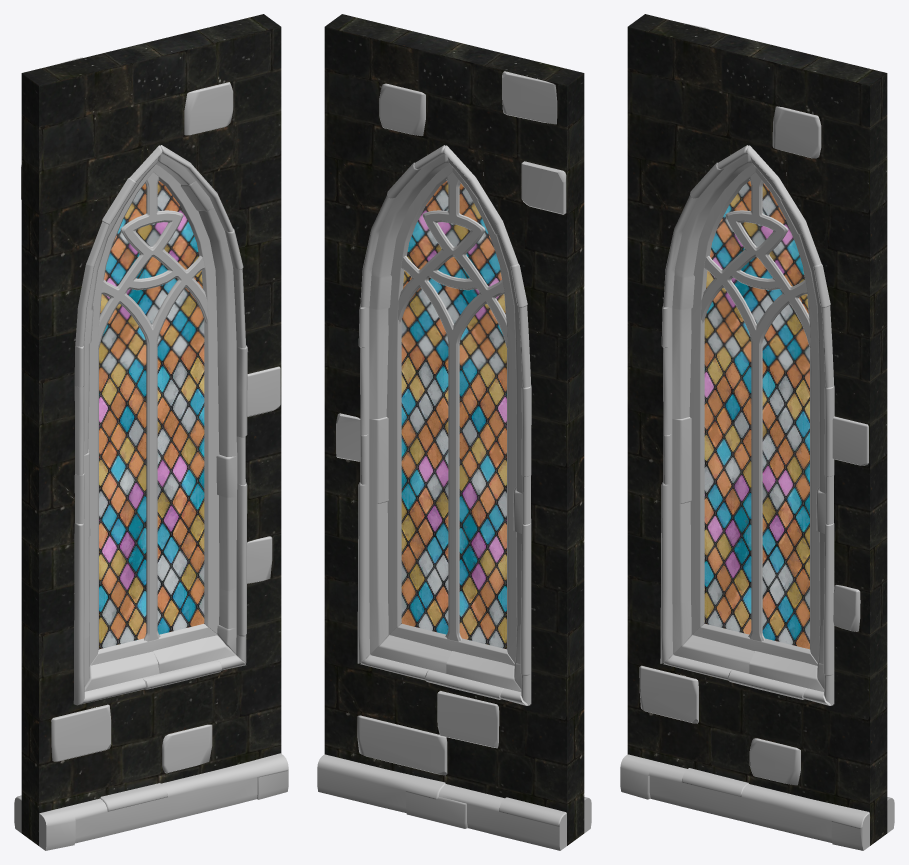
The picture shows the model from 3 angles, left to right: view 1: azimuth 30°, elevation 25°; view 2: azimuth 150°, elevation 25°; view 3: azimuth 330°, elevation 25°; orthographic projection.
Parts seen in each view (by area): view 1: SM_DeathTemple_Window_4x12_01_v1_LOD0; view 2: SM_DeathTemple_Window_4x12_01_v1_LOD0; view 3: SM_DeathTemple_Window_4x12_01_v1_LOD0.
Part boxes in pixels (x1,y1,x2,y2): SM_DeathTemple_Window_4x12_01_v1_LOD0: (14,14,288,850); SM_DeathTemple_Window_4x12_01_v1_LOD0: (317,14,591,850); SM_DeathTemple_Window_4x12_01_v1_LOD0: (620,14,894,850).
Bounding box in the file's own units: 4 × 12 × 0.9892.
